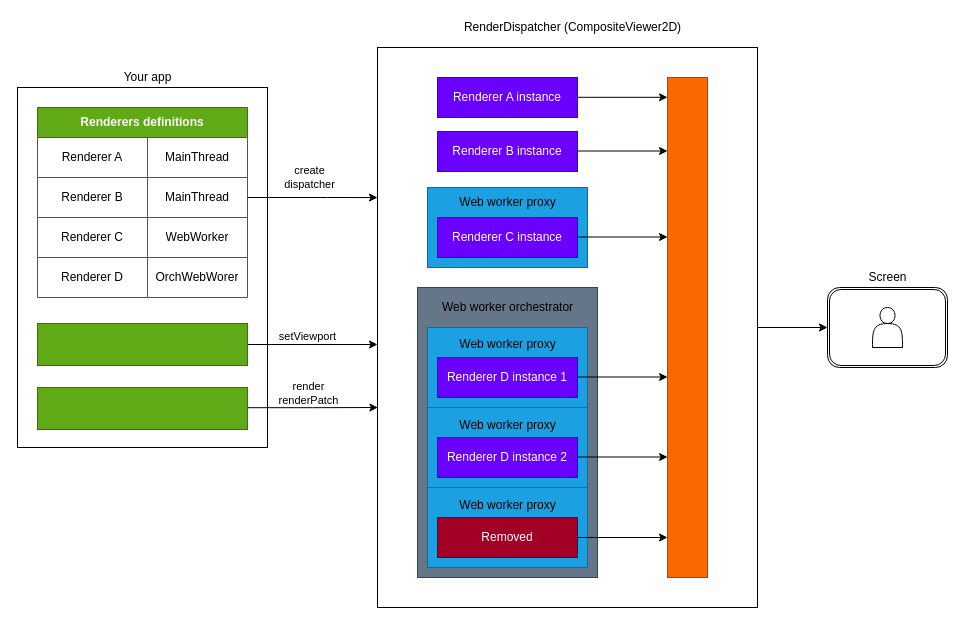
This 965x625 diagram has some shape labels left out. Here are the shapes that lost their labels. From the top down, the centre of each, then its label:
the point at 142,344: Viewport manipulator
the point at 687,327: Render scheduler(s)
the point at 142,408: App logic
